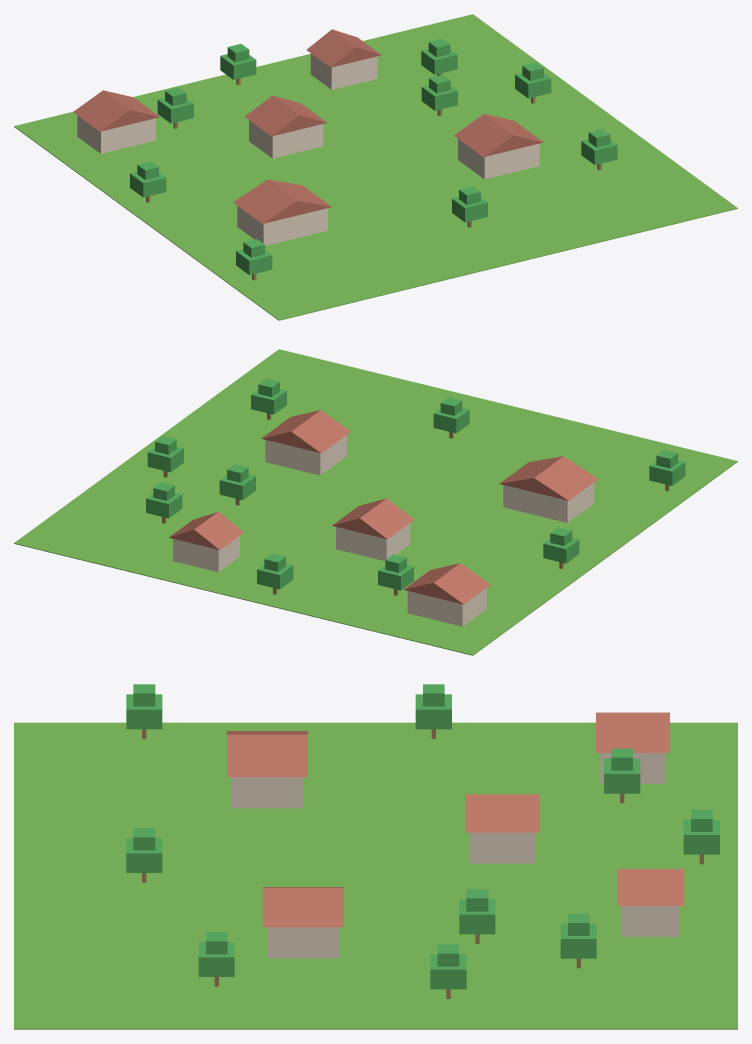
The model's file is chunk.gltf.
3 views of the same model, one above another, from view 1: azimuth 30°, elevation 25°; view 2: azimuth 150°, elevation 25°; view 3: azimuth 270°, elevation 25° (orthographic). The views are drawn at different scales.
Parts seen in each view (by area): view 1: ground, roofs, walls, foliage; view 2: ground, roofs, walls, foliage; view 3: ground, roofs, foliage, walls.
Boxes of the visible parts, x1=… form: ground: x1=14, y1=14, x2=737, y2=320; roofs: x1=73, y1=29, x2=543, y2=223; walls: x1=77, y1=53, x2=539, y2=245; foliage: x1=130, y1=38, x2=617, y2=274; ground: x1=14, y1=349, x2=737, y2=655; roofs: x1=169, y1=410, x2=598, y2=604; walls: x1=173, y1=435, x2=594, y2=626; foliage: x1=146, y1=378, x2=685, y2=590; ground: x1=14, y1=722, x2=737, y2=1029; roofs: x1=227, y1=712, x2=684, y2=927; foliage: x1=126, y1=684, x2=719, y2=989; walls: x1=231, y1=753, x2=679, y2=958.
Bounding box in the file's own units: 100 × 8.15 × 100.
